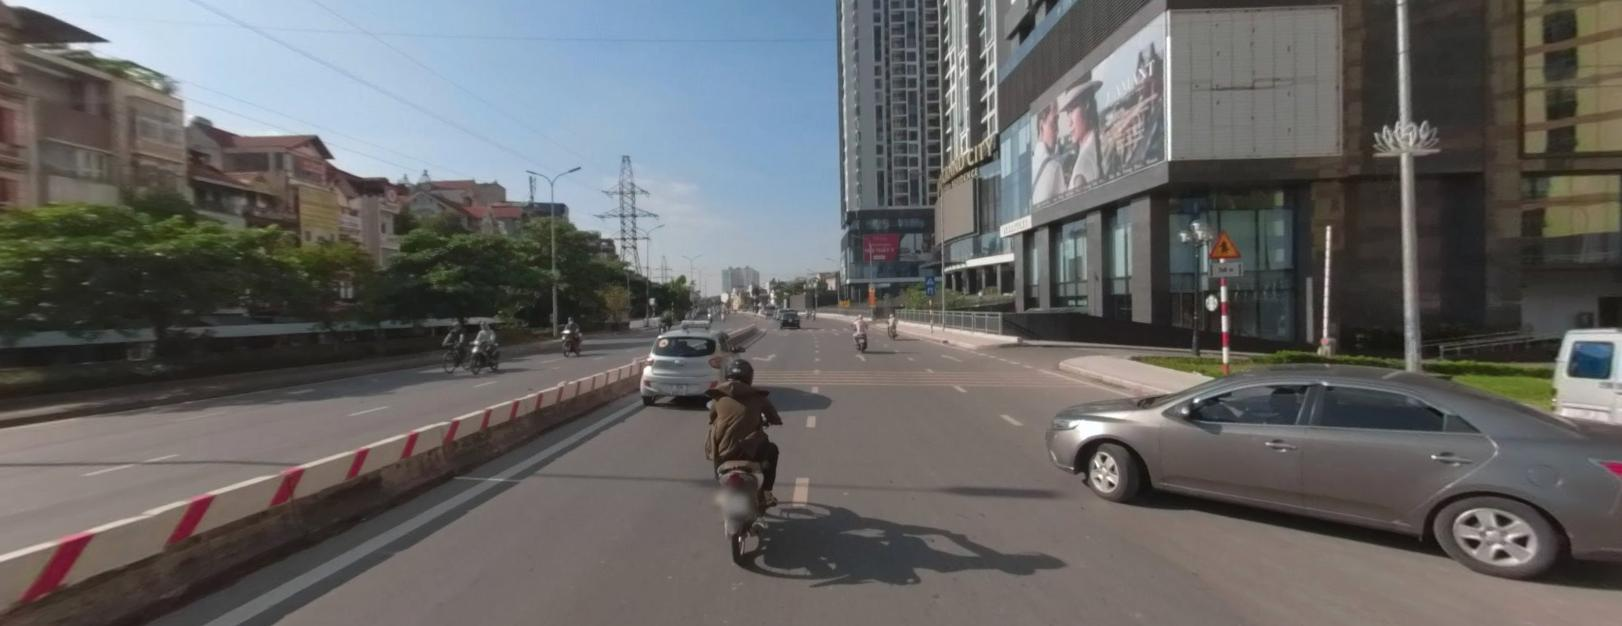Nguy hiem: (1209, 228, 1241, 256)
